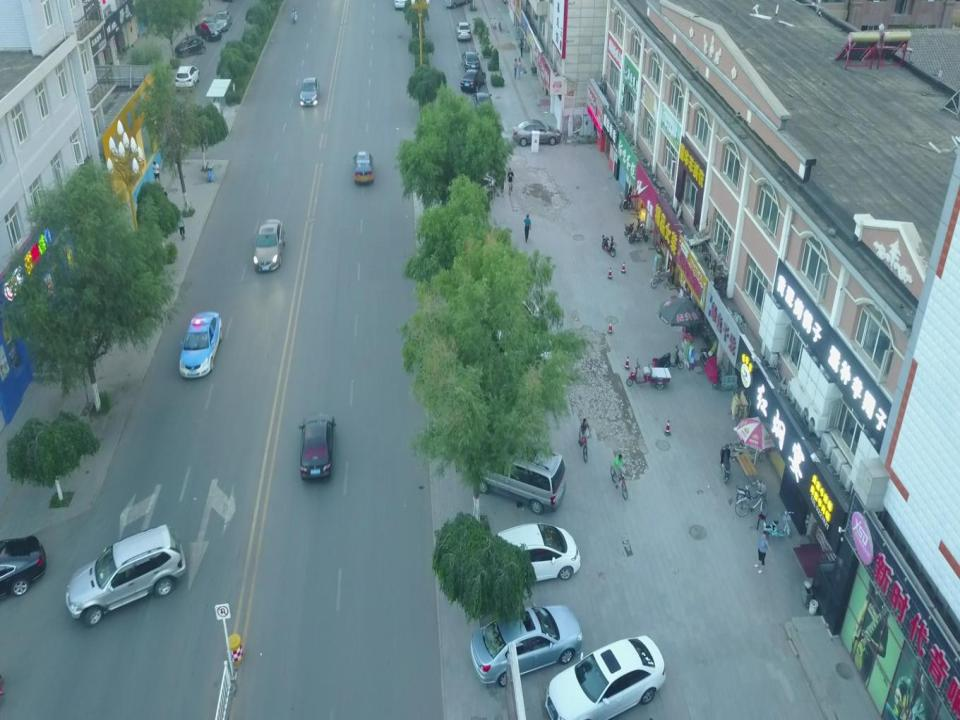car: (66, 524, 186, 627), (545, 635, 666, 720), (469, 602, 583, 687), (465, 523, 580, 592), (0, 536, 46, 601), (178, 312, 222, 378), (299, 411, 336, 482), (447, 169, 497, 207), (253, 219, 285, 272), (512, 119, 561, 147), (174, 33, 206, 58), (352, 150, 374, 184), (175, 65, 201, 93), (460, 69, 486, 92), (299, 78, 320, 106), (194, 22, 222, 42), (472, 92, 493, 115), (213, 10, 232, 32), (461, 52, 480, 73), (456, 22, 472, 40)
van: (470, 435, 566, 515)
